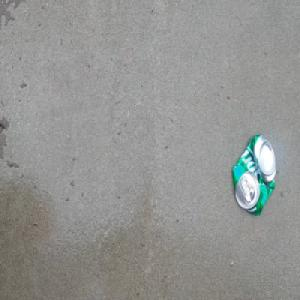SodaCan: (230, 131, 278, 218)
